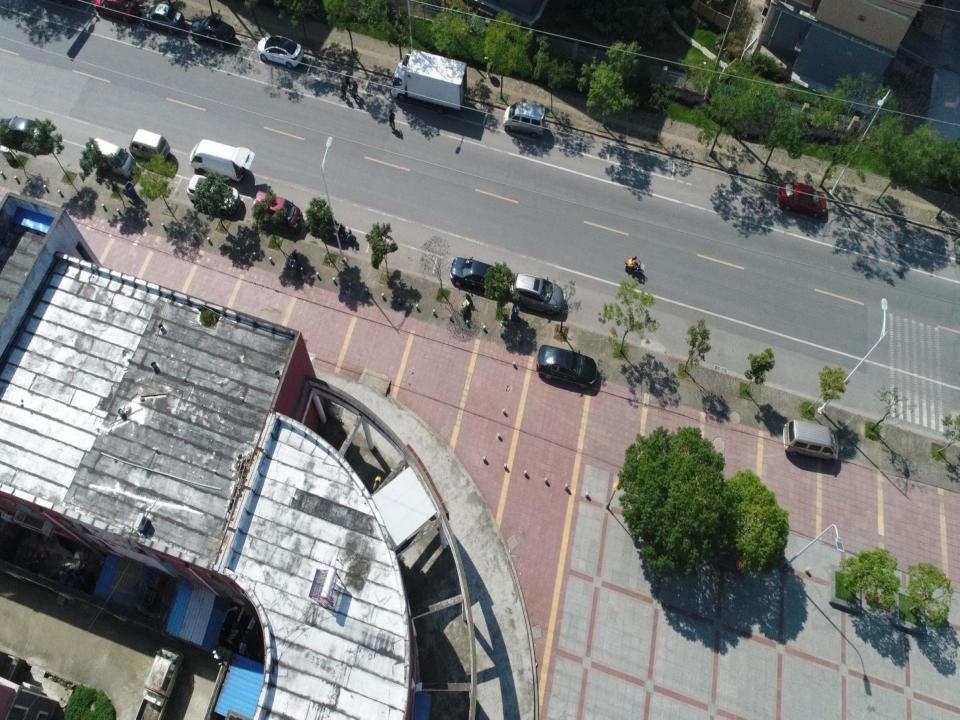car: (536, 344, 597, 390), (509, 273, 564, 317), (449, 256, 506, 298), (187, 173, 240, 218), (256, 34, 305, 71), (778, 181, 827, 217), (190, 14, 236, 51), (0, 116, 47, 152), (145, 2, 185, 34)
truck: (390, 48, 468, 112)
van: (188, 138, 256, 184), (783, 419, 839, 463), (253, 190, 304, 234), (88, 137, 136, 180), (128, 128, 171, 165), (502, 101, 545, 137)
